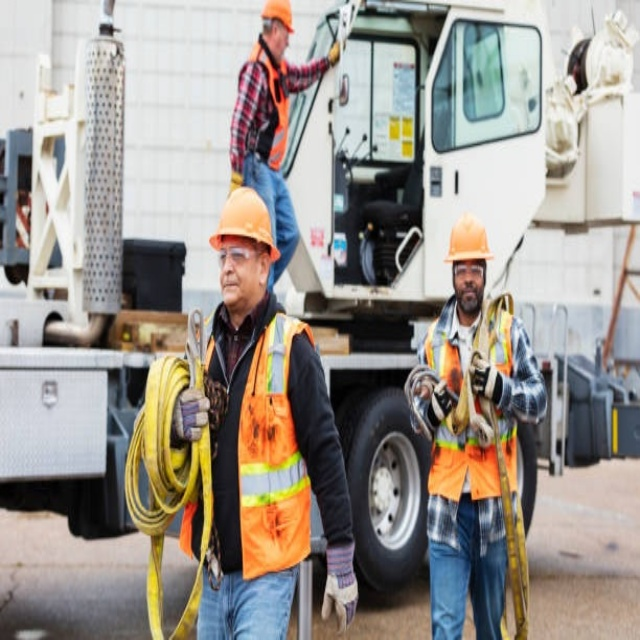Gafas: (216, 243, 267, 267), (452, 260, 485, 281)
Guantes: (318, 539, 362, 635), (169, 385, 212, 443), (468, 353, 501, 406), (421, 375, 452, 430)
Sin_mascara: (457, 282, 480, 306), (222, 272, 241, 301)
